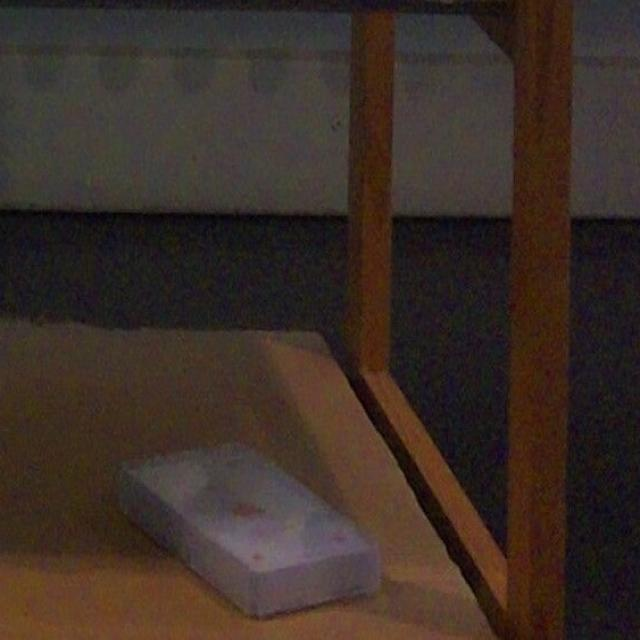Jasskarte: (119, 443, 379, 616)
